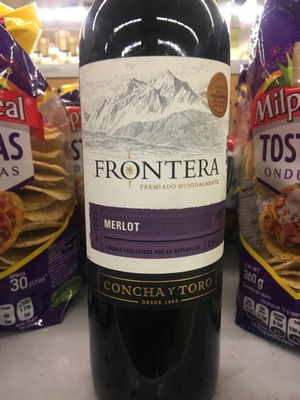frontera merlot: (69, 1, 247, 368)
